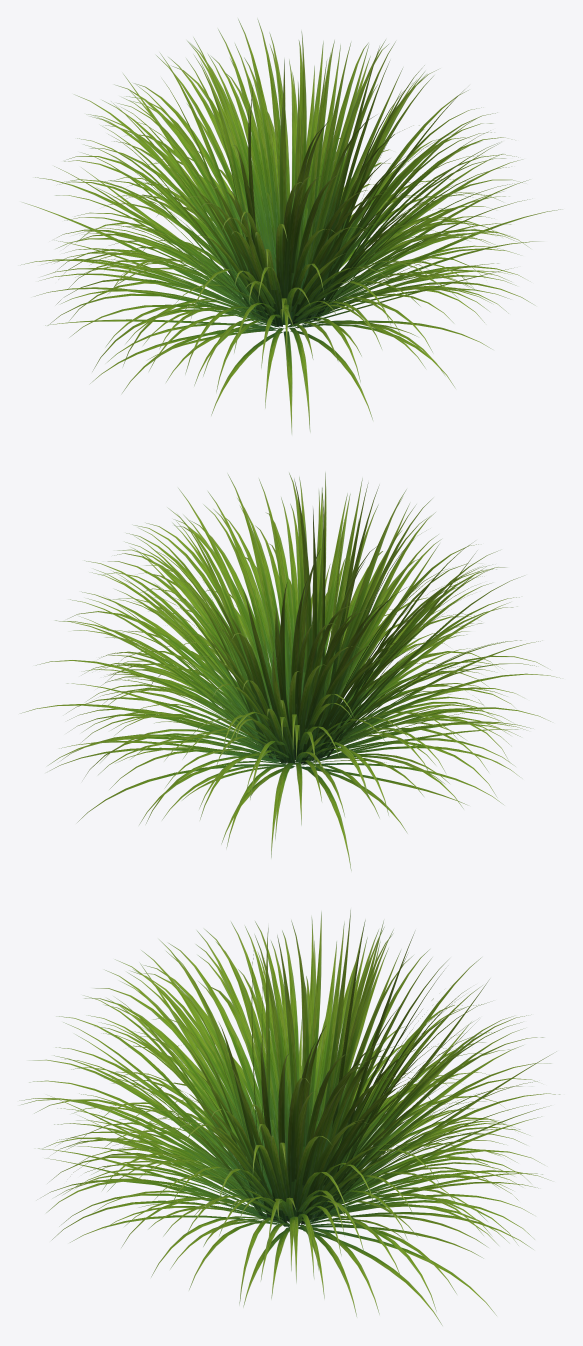
Rendered from lemongrass-real-v1.glb.
The picture shows the model from 3 angles, top to bottom: view 1: azimuth 30°, elevation 25°; view 2: azimuth 150°, elevation 25°; view 3: azimuth 270°, elevation 25°; orthographic projection. The views are drawn at different scales.
Visible parts, largest first — view 1: LOD0; view 2: LOD0; view 3: LOD0.
Boxes of the visible parts, box(x1,y1,x2,y2) form: LOD0: box(21, 19, 560, 432); LOD0: box(21, 472, 559, 870); LOD0: box(21, 910, 559, 1325).
Size of what is drawn, in the model's own units: 0.1105 by 0.0686 by 0.1062.
1 material, 1 textured.
